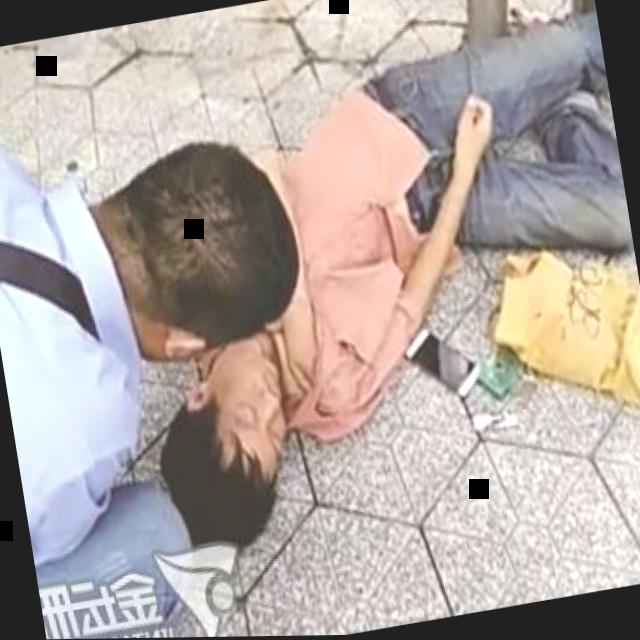Fall-Detected: (126, 0, 640, 615)
